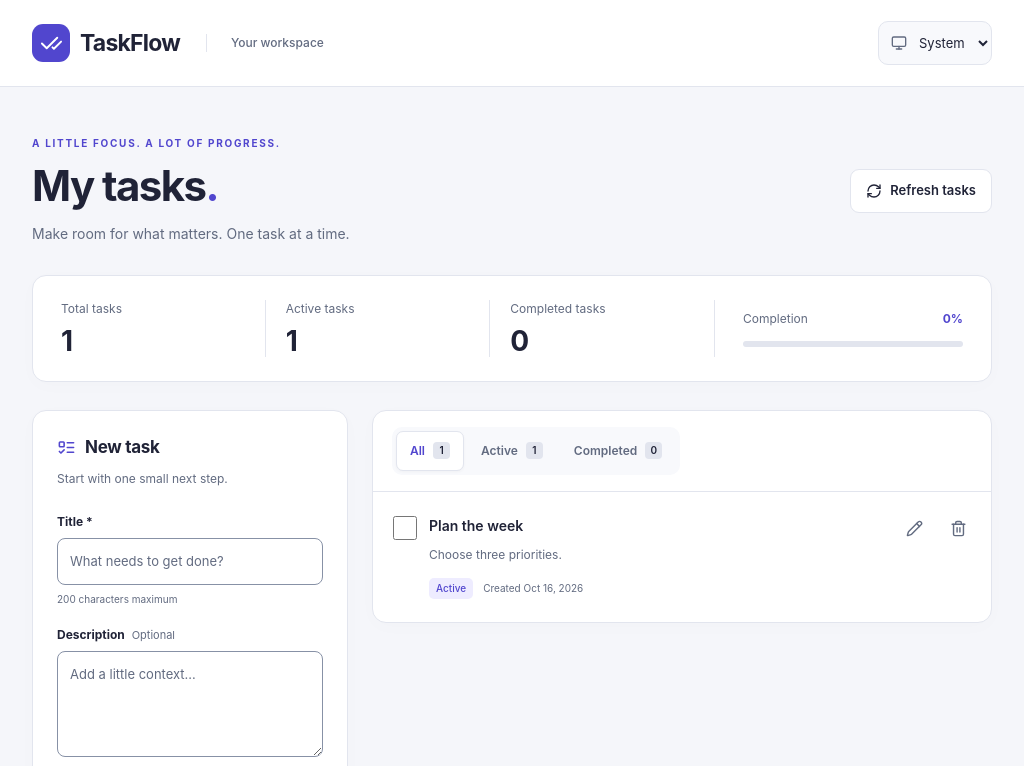
Task workspace › prepopulates and saves edits with completion state
Click the button named "Edit Plan the week".
click(914, 529)  # box x1=892 y1=507 x2=936 y2=551
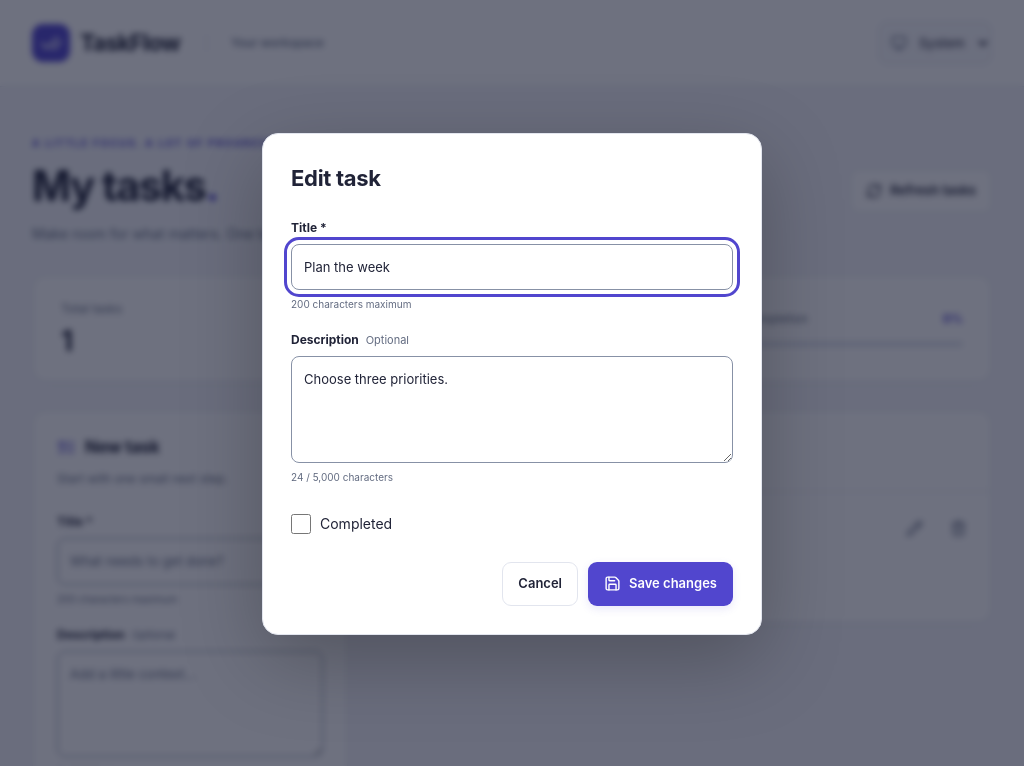
Check: the field labelled "Title *" holds "Plan the week"
Replace the text in the field labelled "Title *" with "Edited title" at coordinates (512, 267), box x1=291 y1=244 x2=733 y2=290
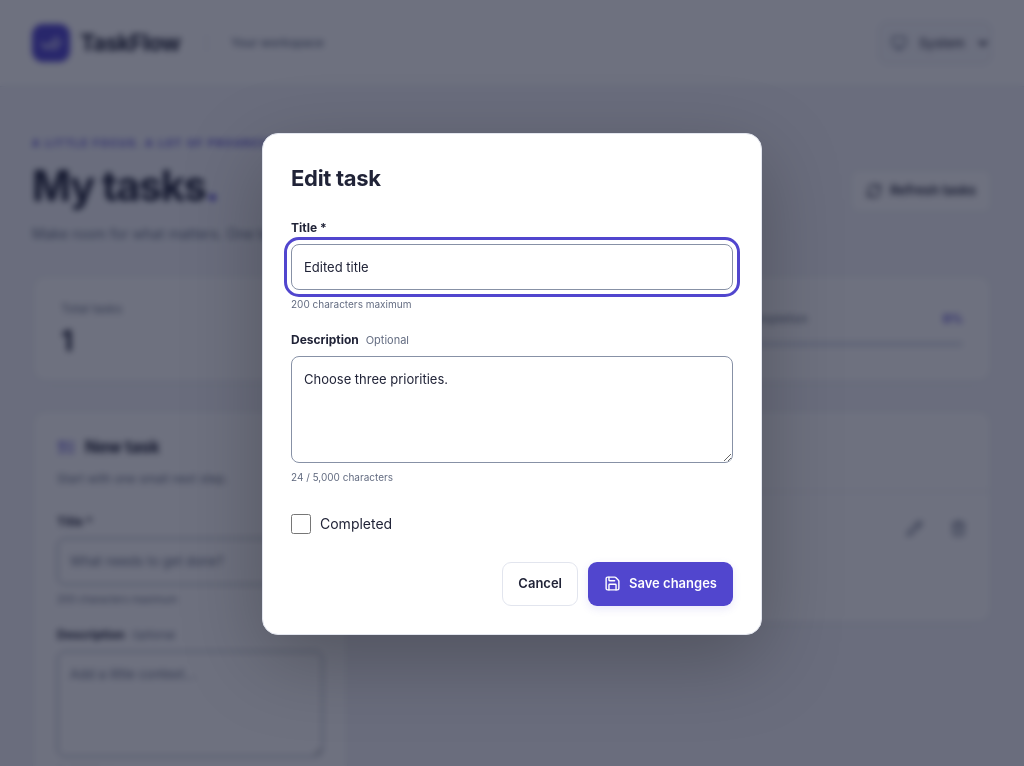
Replace the text in the text box labelled "Description Optional" with "Edited description" at coordinates (512, 410), box x1=291 y1=356 x2=733 y2=463
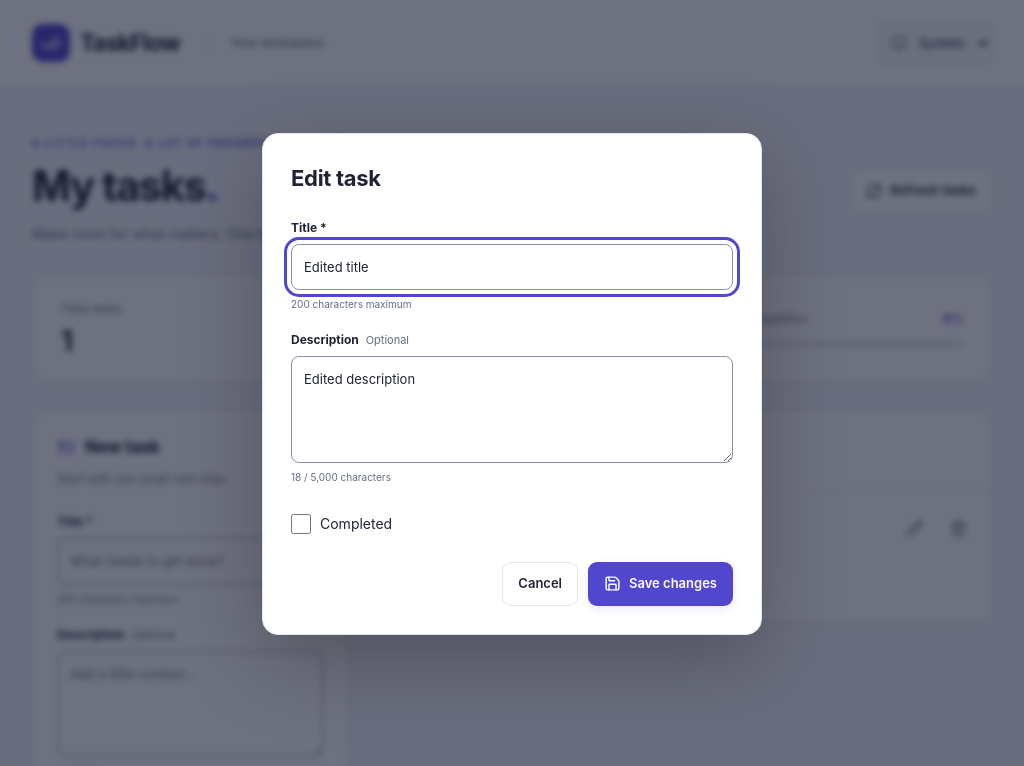
Click the checkbox labelled "Completed".
click(301, 524)  # box x1=291 y1=514 x2=311 y2=534
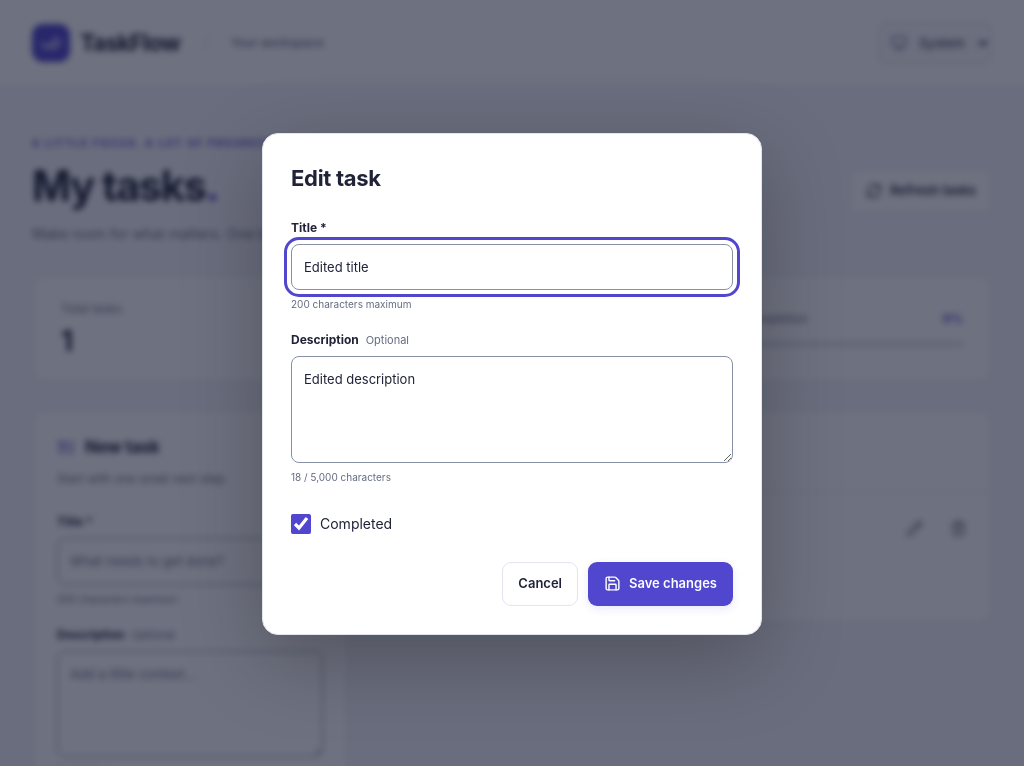
Click the button "Save changes".
click(660, 584)  # box x1=588 y1=562 x2=733 y2=606
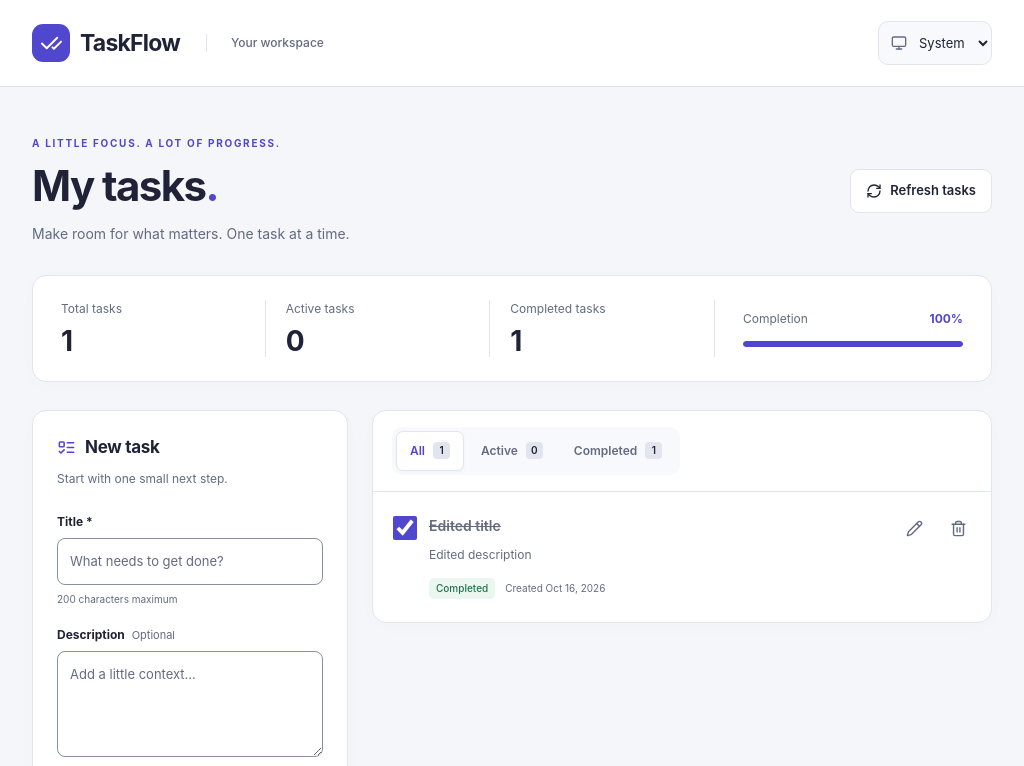
Check: the heading "Edited title" is shown, box x1=429 y1=517 x2=501 y2=534
Check: the text "Edited description" is shown, box x1=429 y1=547 x2=532 y2=562
Check: the checkbox named "Mark Edited title active" is checked, box x1=393 y1=516 x2=417 y2=540
